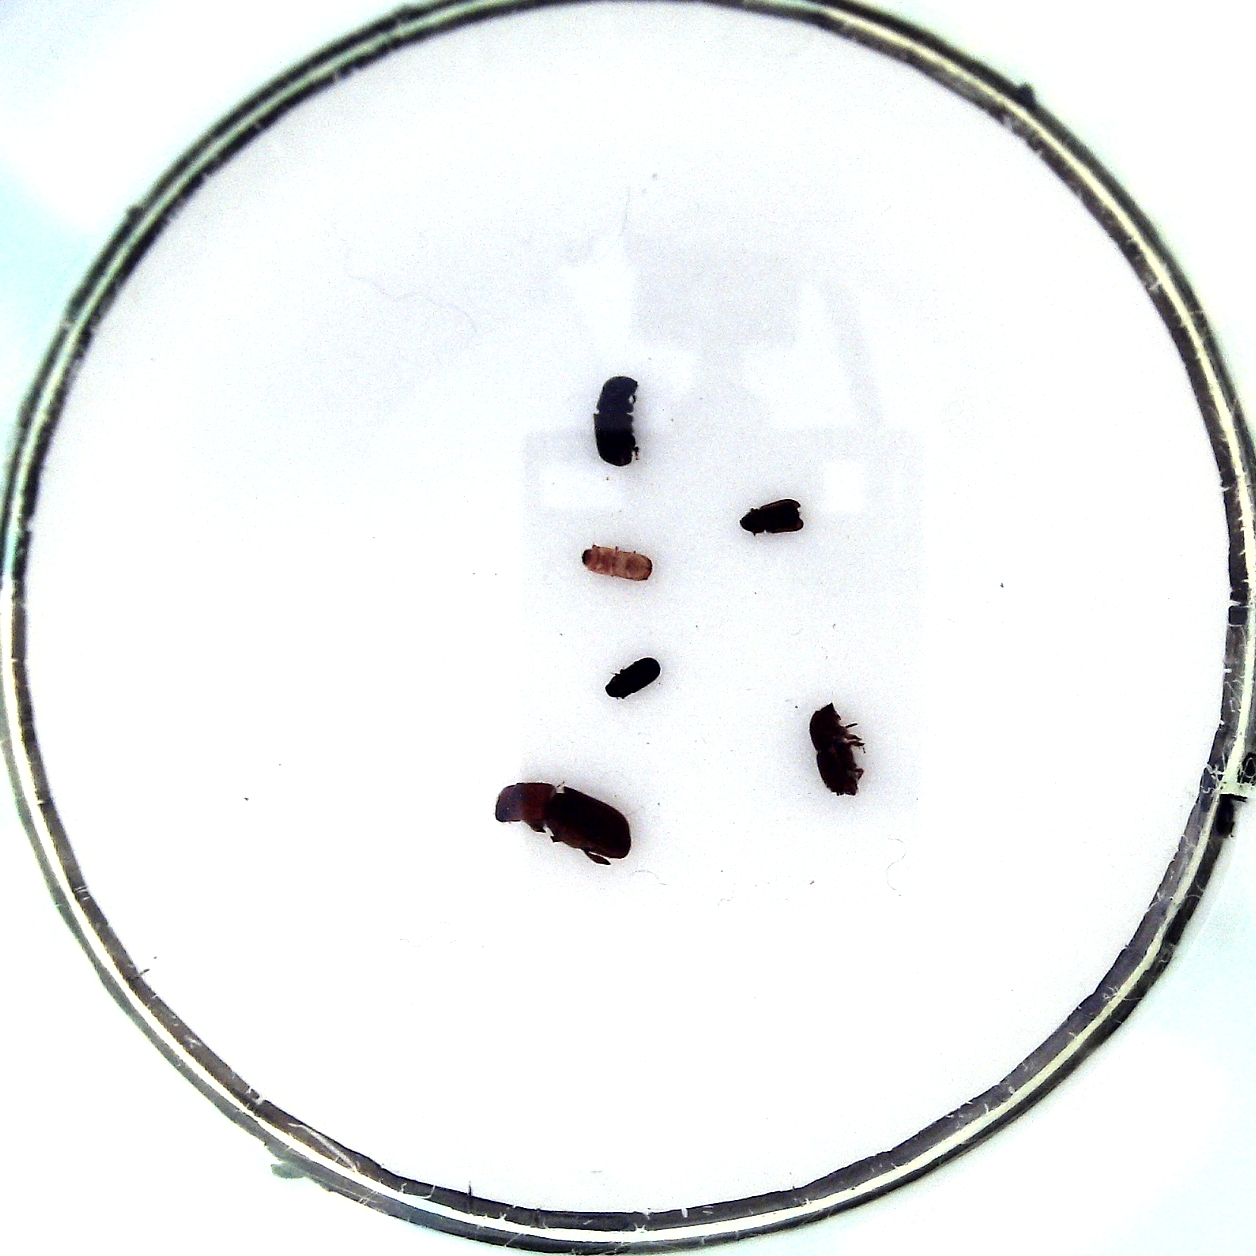Leconte: (495, 782, 631, 861)
acuminatus: (605, 656, 660, 699)
armandi: (593, 376, 640, 468)
coleoptera: (582, 545, 652, 580), (740, 498, 804, 534)
linnaeus: (809, 702, 860, 798)
